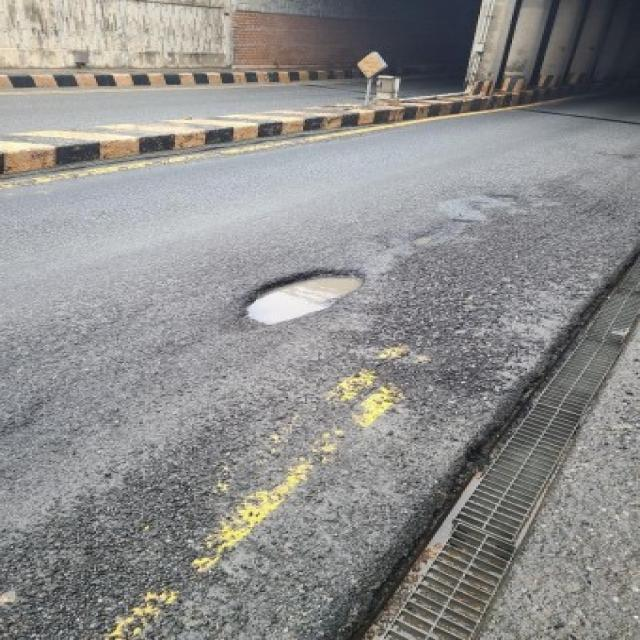pothole: (219, 251, 392, 335)
